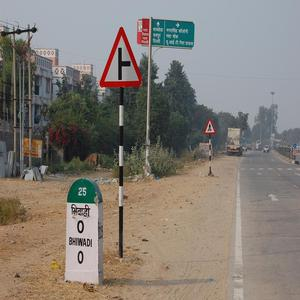kmstone: (63, 177, 103, 285)
